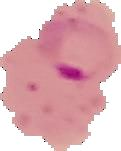parasitized: (35, 14, 110, 83)
